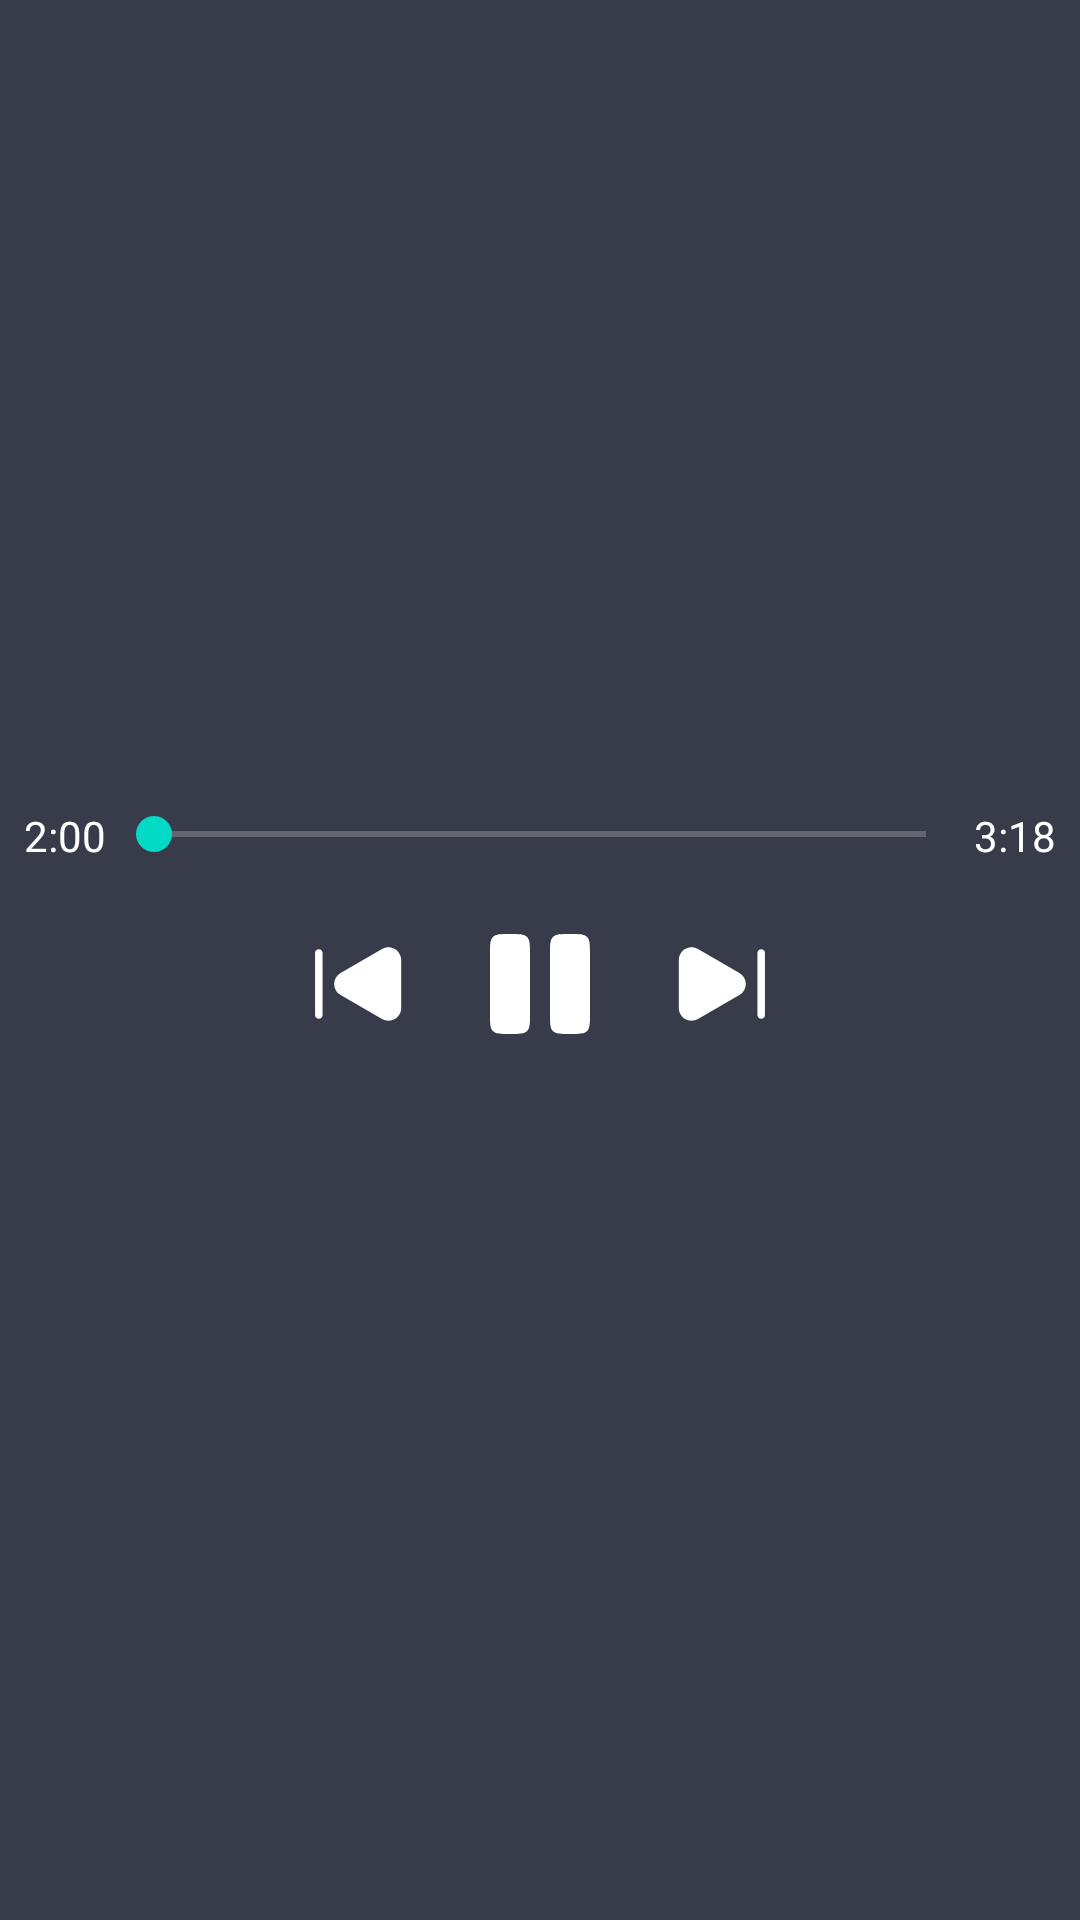

Icons on this 1080 x 1920 Android screen, each with its box as detection(x1, y1, x2, y2):
next: detection(678, 947, 765, 1021)
pause: detection(490, 934, 590, 1034)
previous: detection(315, 947, 402, 1021)
